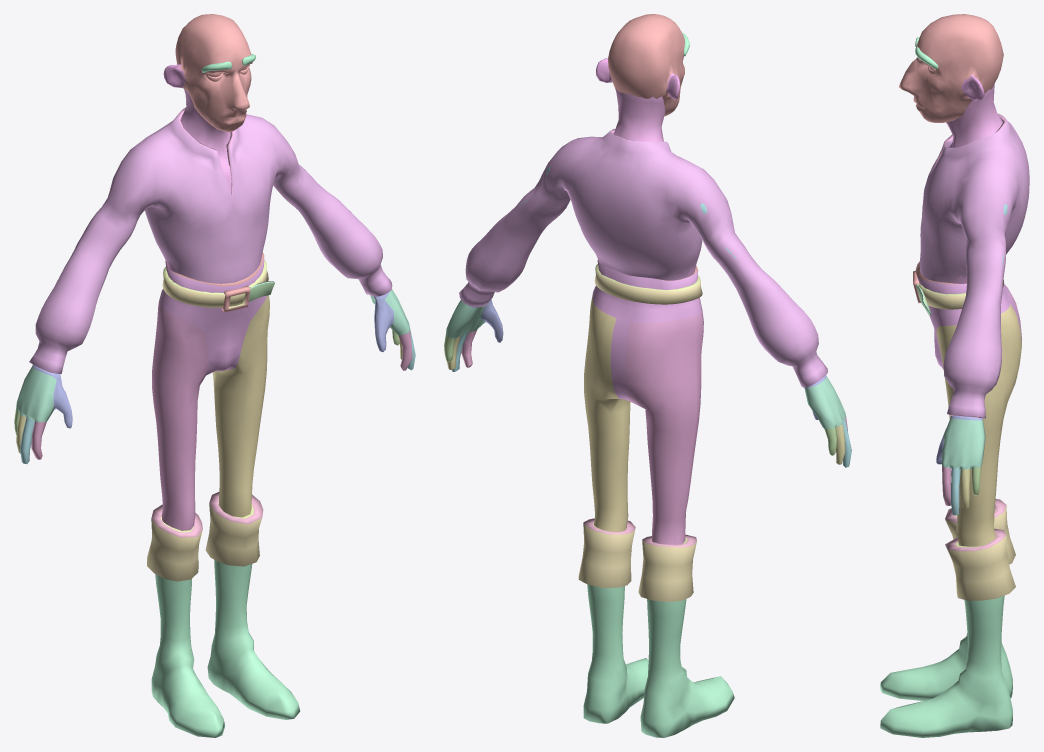
File: SM_NPC01.fbx
The picture shows the model from 3 angles, left to right: view 1: azimuth 30°, elevation 25°; view 2: azimuth 150°, elevation 25°; view 3: azimuth 270°, elevation 25°; orthographic projection.
Parts seen in each view (by area): view 1: SM_NPC01; view 2: SM_NPC01; view 3: SM_NPC01.
Boxes of the visible parts, x1,y1,x2,y2 form: SM_NPC01: (14, 14, 415, 737); SM_NPC01: (444, 14, 851, 737); SM_NPC01: (880, 14, 1029, 737).
Bounding box in the file's own units: 97.15 × 160 × 31.41.
